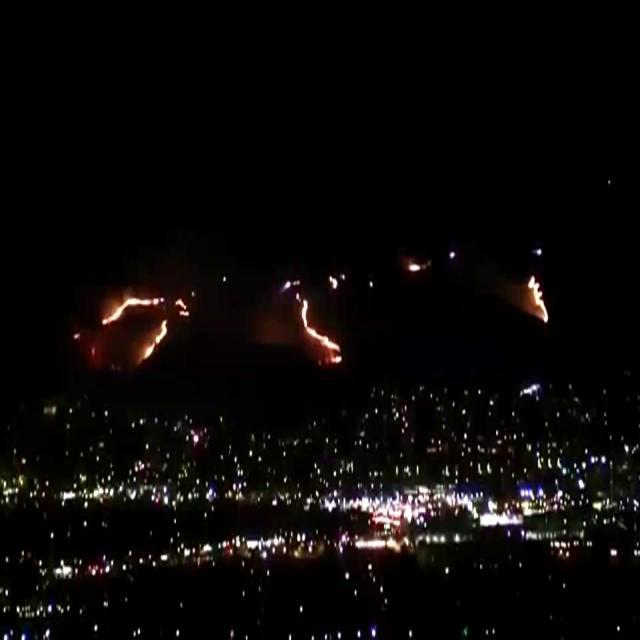Fire: (300, 298, 342, 363), (101, 290, 163, 324), (144, 316, 167, 361), (529, 272, 549, 322), (174, 296, 191, 319), (409, 259, 422, 273)
